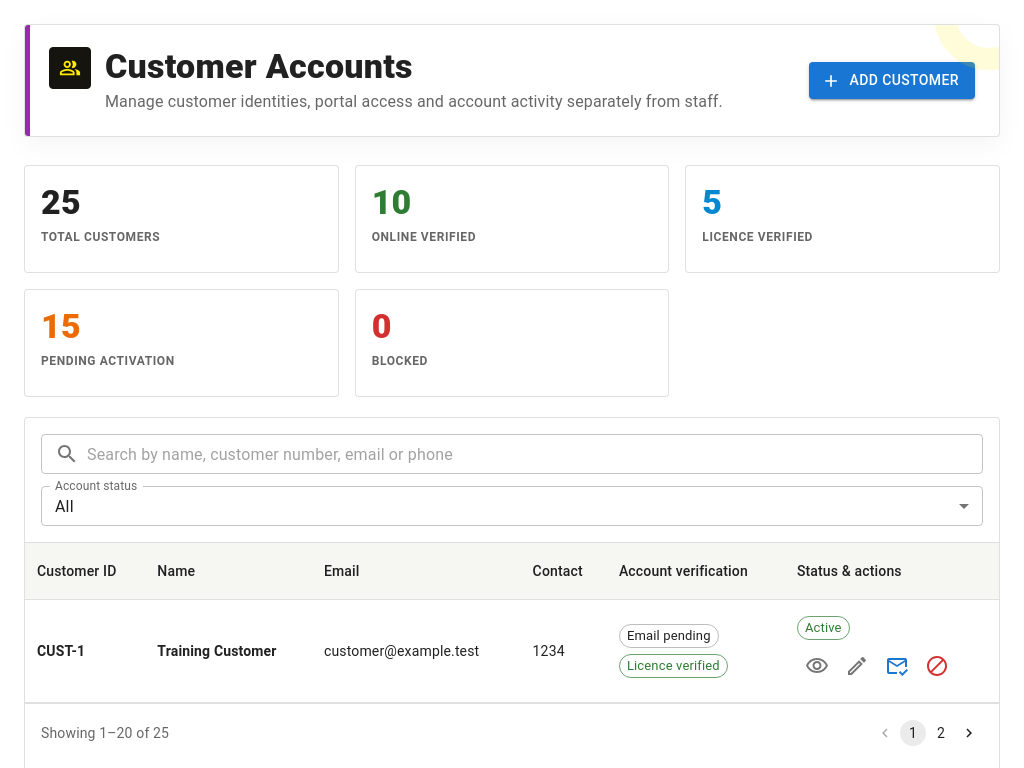
Test: retains failed customer edits {}
Later steps or results of the test are not shown.
Expected: the text "Training Customer" is shown, [145, 600, 312, 703]
Click the button named "Edit customer" at (857, 666), box [837, 646, 877, 686]
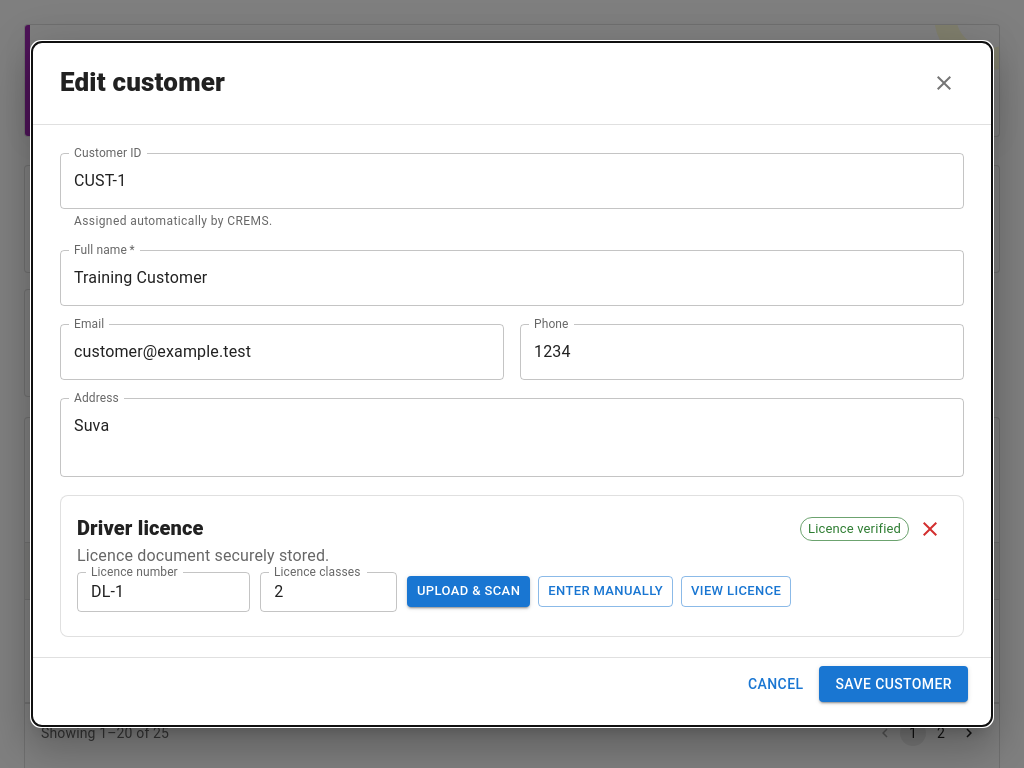
Replace the text in the field labelled "Full name *" with "Unsaved customer" at (512, 278), box [60, 250, 964, 306]
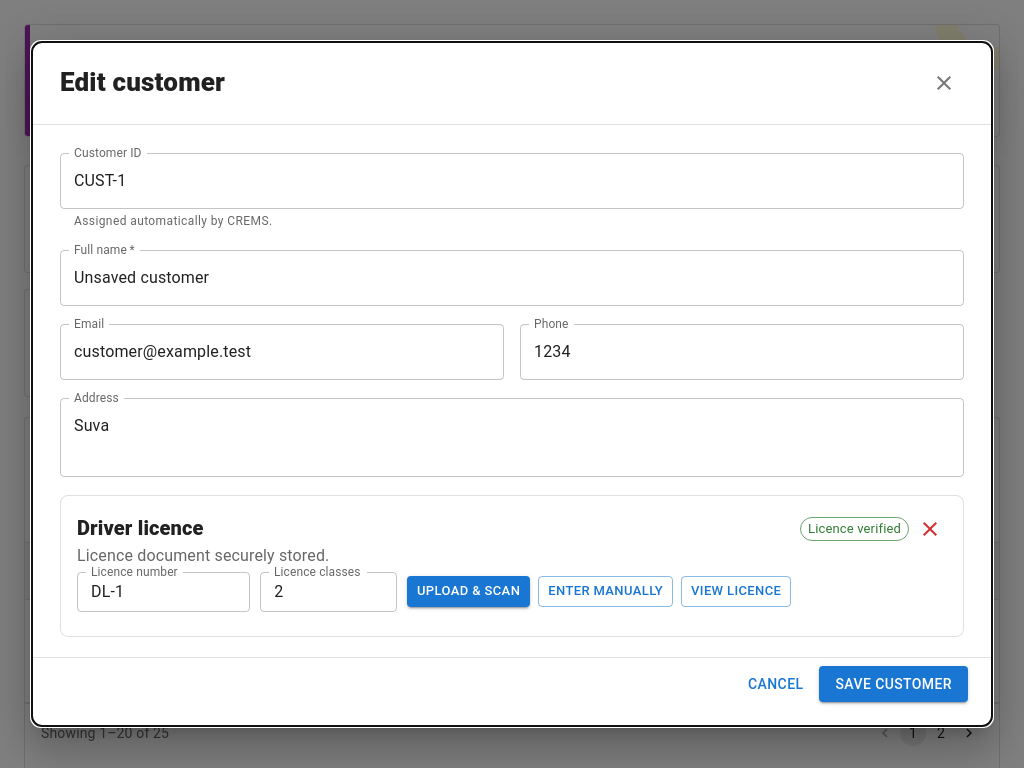
Click the button "Save customer" at (894, 684), box [820, 666, 968, 702]
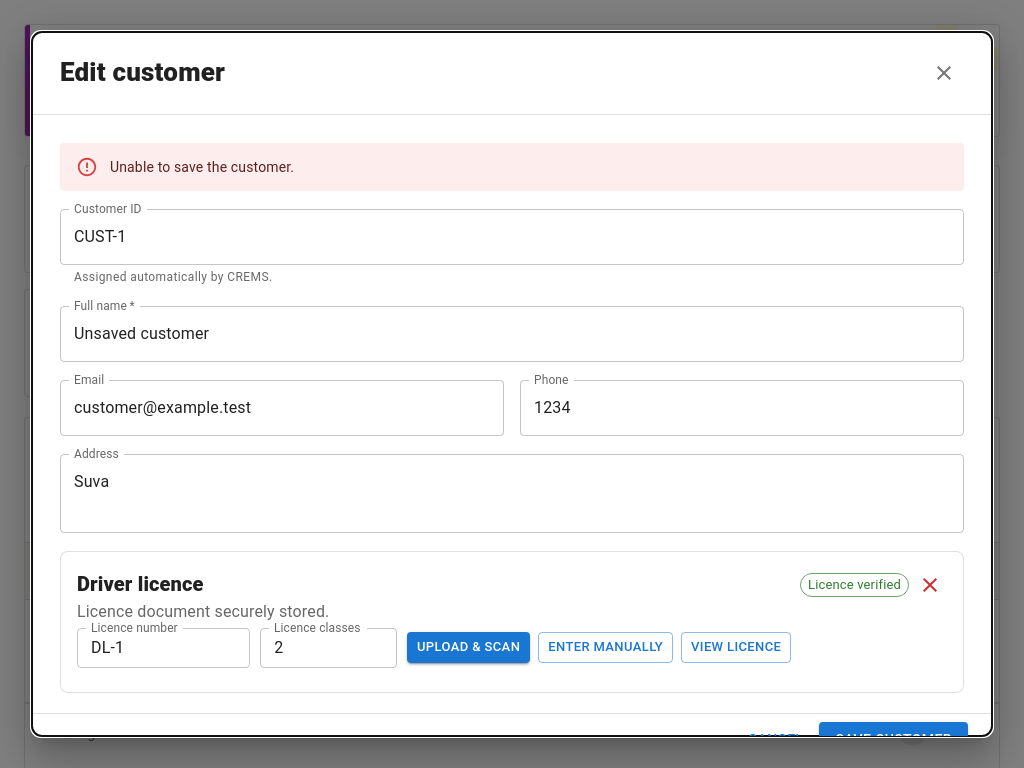
Result: the text "Unable to save the customer." is shown at [110, 157, 294, 177]
